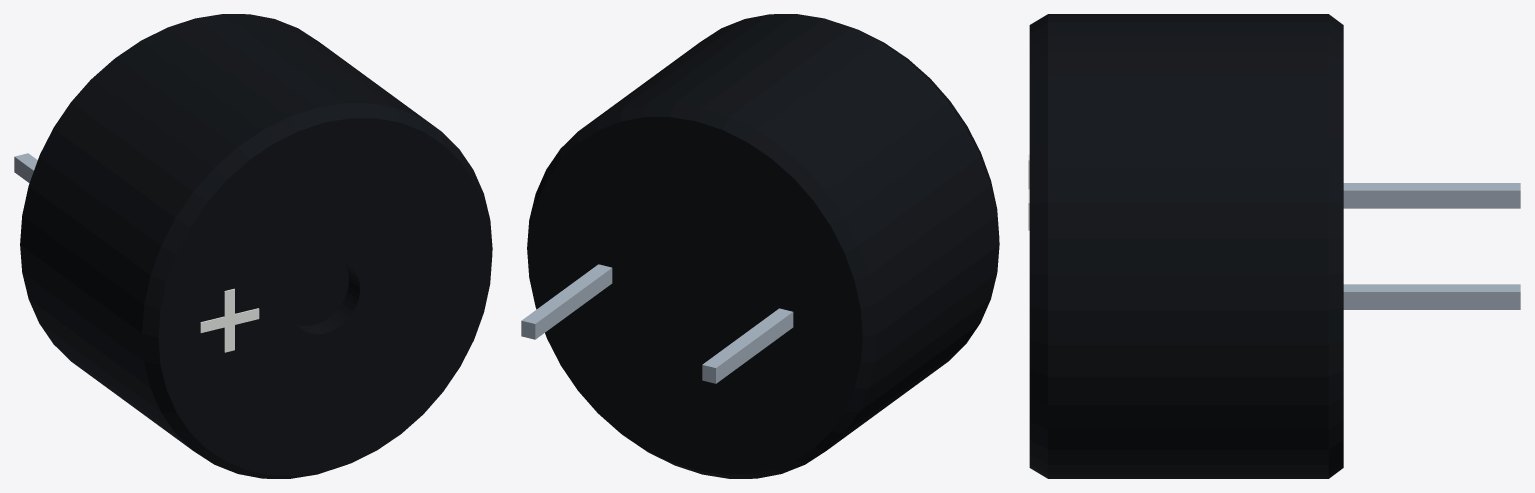
The model's file is onboard_speaker.obj.
3 renders of one model, left to right at view 1: azimuth 30°, elevation 25°; view 2: azimuth 150°, elevation 25°; view 3: azimuth 270°, elevation 25°, orthographic. The views are drawn at different scales.
Visible parts, largest first — view 1: onboard_speaker; view 2: onboard_speaker; view 3: onboard_speaker.
Boxes of the visible parts, box(x1,y1,x2,y2) form: onboard_speaker: box(14, 14, 492, 478); onboard_speaker: box(521, 14, 999, 478); onboard_speaker: box(1028, 14, 1520, 478).
Size of the model in its own units: 1.89 by 1.89 by 2.
